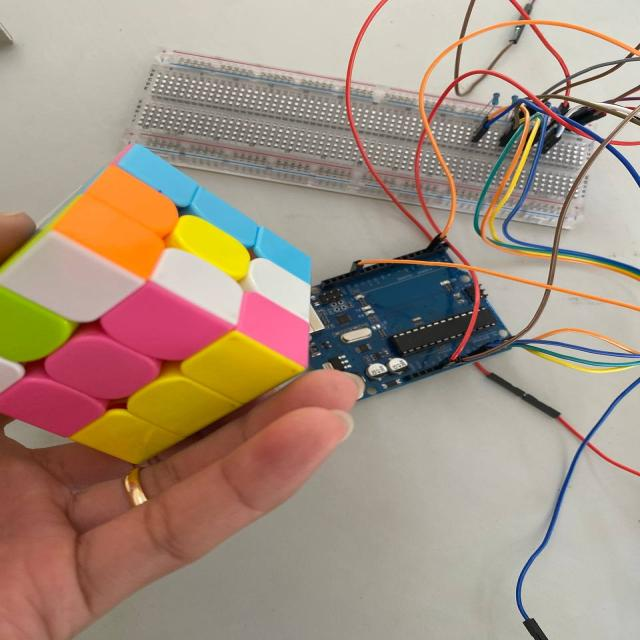Cube-3x3: (0, 112, 360, 467)
